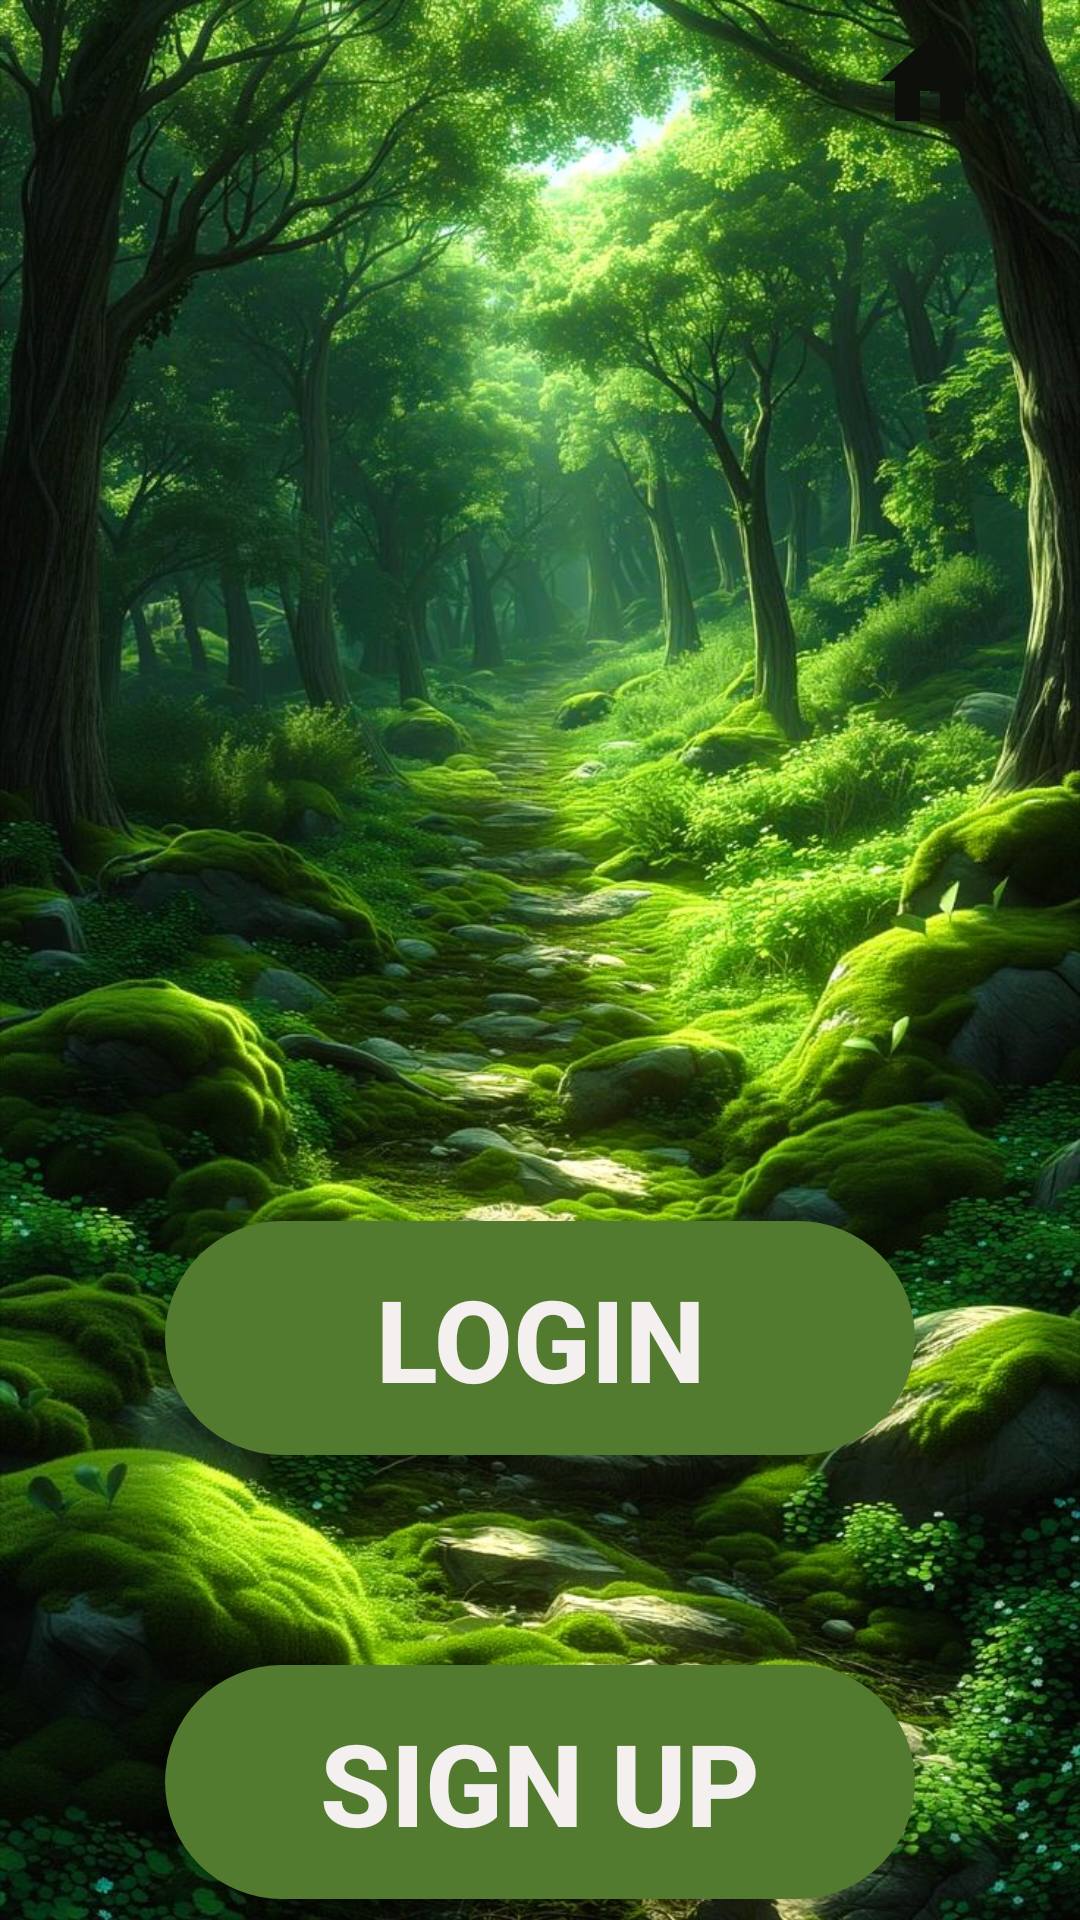

Where to tap for icons on this 1080px×1920px app screen, as (x=x, y=y):
home: (x=930, y=81)
